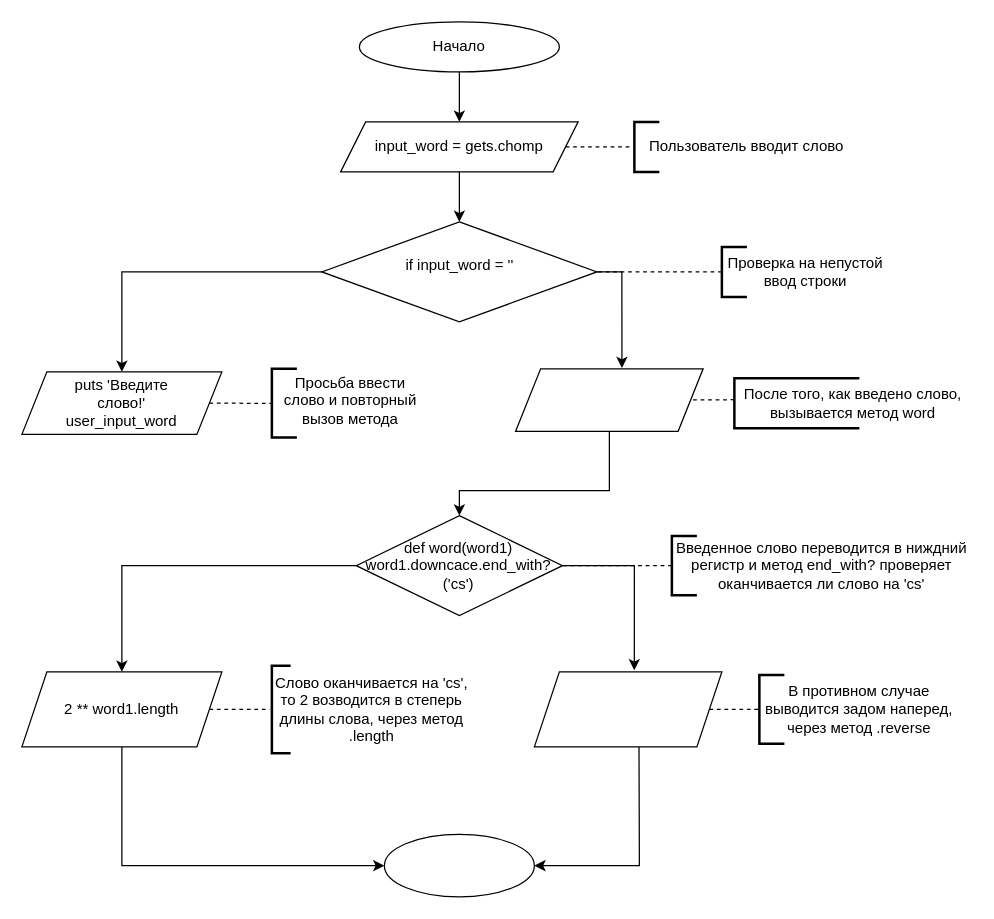
This 994x919 diagram has some shape labels left out. The shapes that lost their labels are listed below. From the top down, each one's centre as x and y in pixels, then its label:
pixel 608 399: puts word(input word)
pixel 627 709: word.reverse
pixel 458 865: Конец
